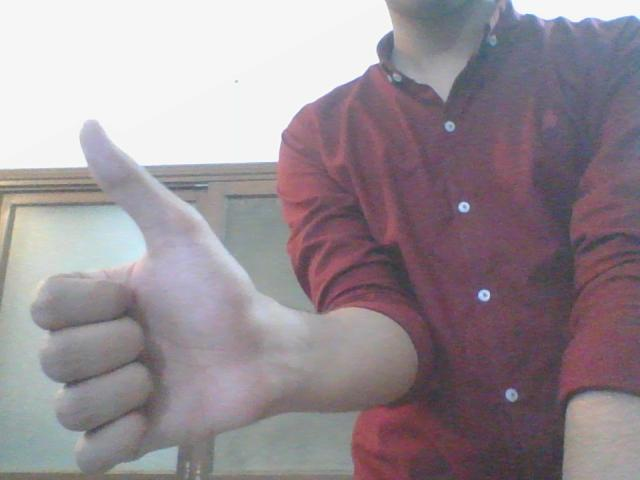thumbs-up: (29, 120, 266, 480)
